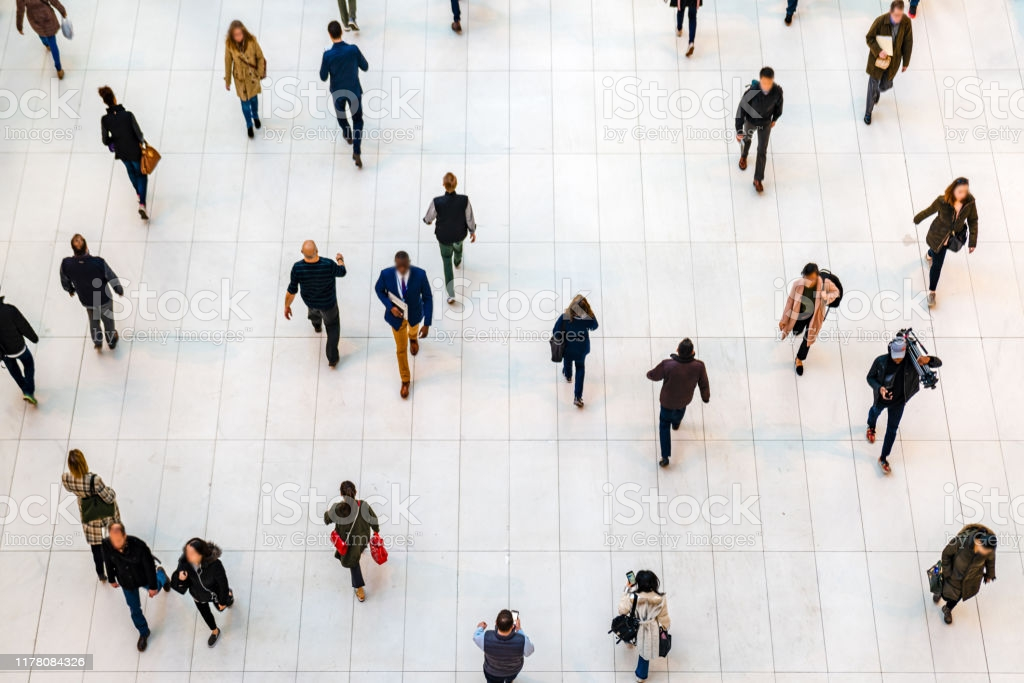person: (862, 329, 941, 474), (97, 518, 175, 654), (915, 516, 1008, 630), (277, 236, 355, 371), (371, 250, 440, 402), (642, 337, 716, 470), (94, 82, 162, 223), (56, 229, 130, 357), (56, 447, 125, 583), (323, 479, 394, 603), (421, 164, 481, 309), (914, 175, 979, 308), (316, 22, 371, 171), (169, 530, 240, 643), (777, 261, 844, 376), (733, 57, 787, 199), (611, 567, 674, 679), (548, 291, 608, 408), (217, 13, 269, 141), (865, 1, 915, 130), (469, 604, 537, 683), (1, 295, 45, 416), (13, 1, 79, 81)
